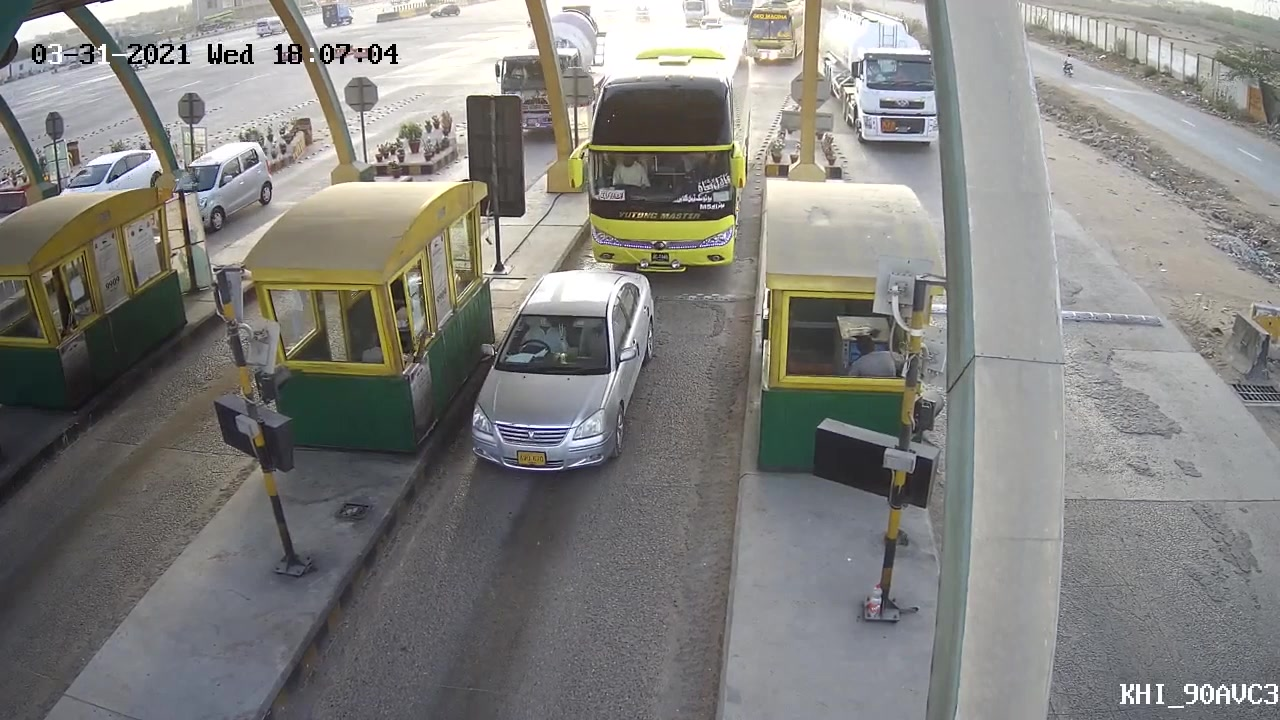F1: (460, 264, 662, 481)
